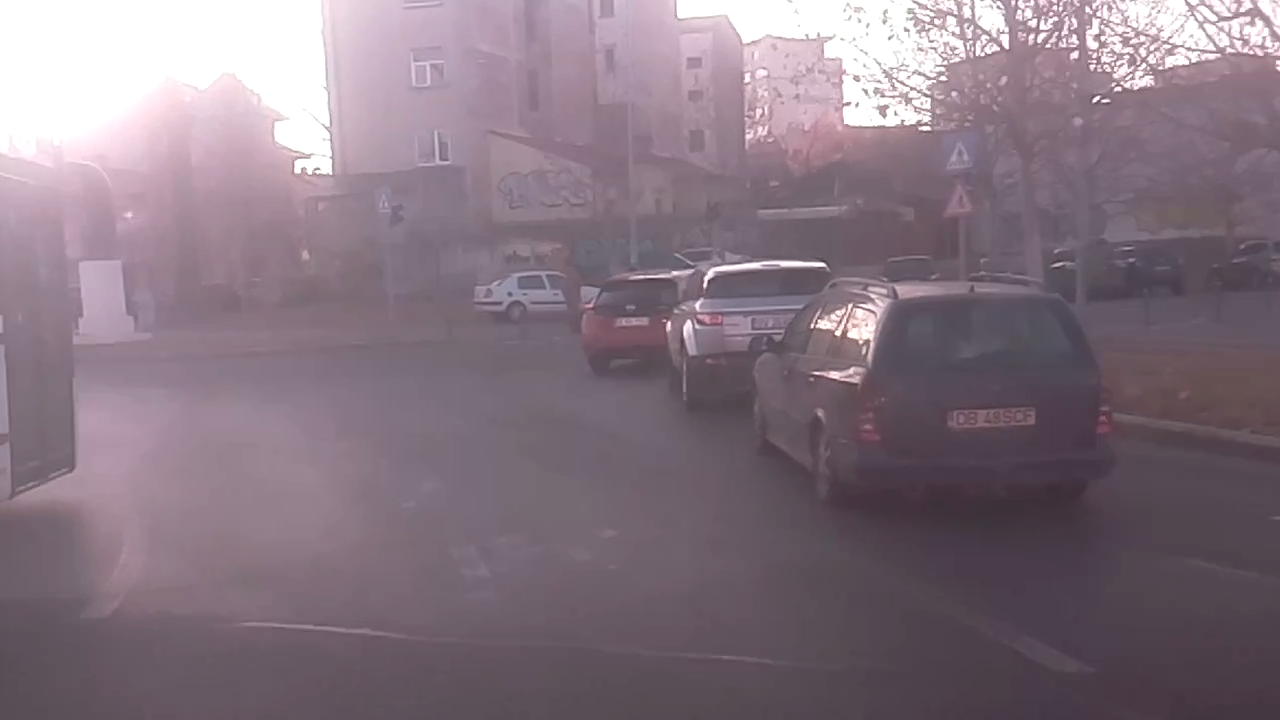license-plate: (942, 403, 1040, 434)
